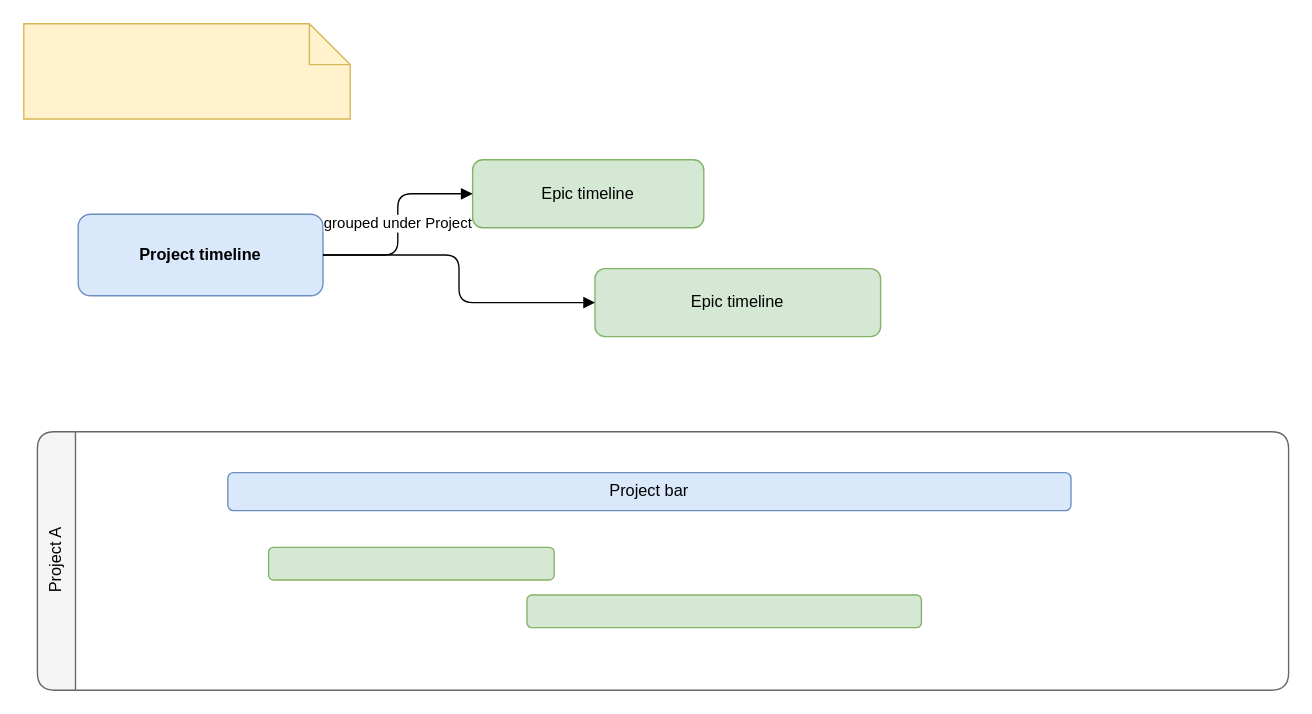
The diagram is 1312 pixels wide and 714 high, and some of its shapes have lost their labels. Here are the shapes that lost their labels. From the top down, the centre of each, then its label:
At point 186,70: "Version 1 focus: Projects + Epics".
At point 410,563: "Epic 1".
At point 723,611: "Epic 2".
